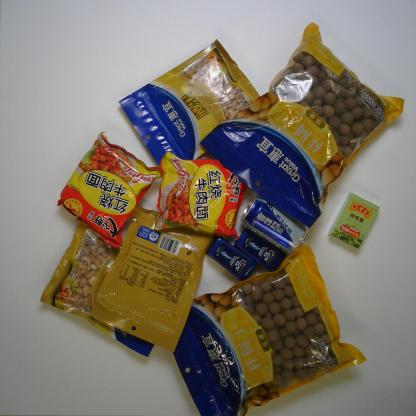Alcohol: (238, 196, 309, 257)
Candy: (325, 190, 382, 251)
Dried Food: (197, 20, 406, 232), (165, 246, 367, 416)
Dried Fruit: (37, 204, 187, 356), (119, 38, 270, 182), (91, 201, 215, 350)
Instant Noodles: (56, 130, 168, 250), (152, 148, 254, 250)
Personal Hygiene: (235, 230, 293, 272), (204, 237, 255, 283)
